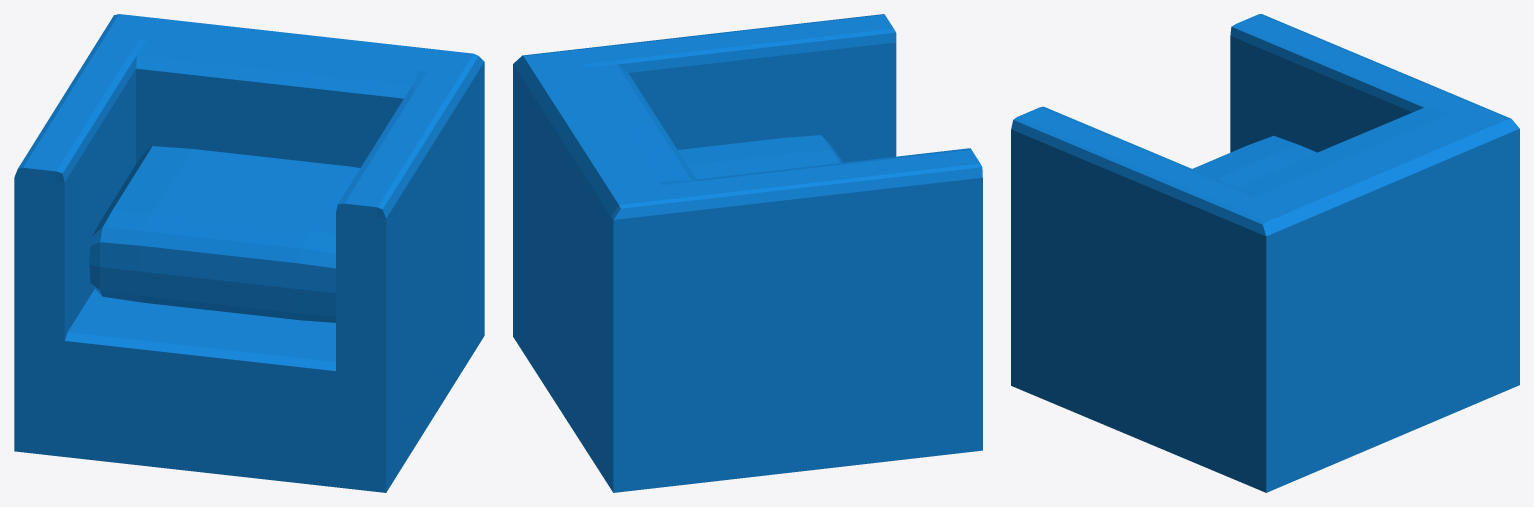
The model's file is Sofa.fbx.
3 renders of one model, left to right at view 1: azimuth 30°, elevation 25°; view 2: azimuth 150°, elevation 25°; view 3: azimuth 270°, elevation 25°, orthographic. The views are drawn at different scales.
Visible parts, largest first — view 1: Sofa, SofaPillow; view 2: Sofa, SofaPillow; view 3: Sofa, SofaPillow.
Boxes of the visible parts, <box> form: Sofa: <box>14,14,484,492</box>; SofaPillow: <box>89,146,360,322</box>; Sofa: <box>513,14,982,492</box>; SofaPillow: <box>678,135,842,179</box>; Sofa: <box>1011,14,1519,492</box>; SofaPillow: <box>1192,135,1316,187</box>.
Size of the model in its own units: 1.61 by 0.9278 by 1.61.
